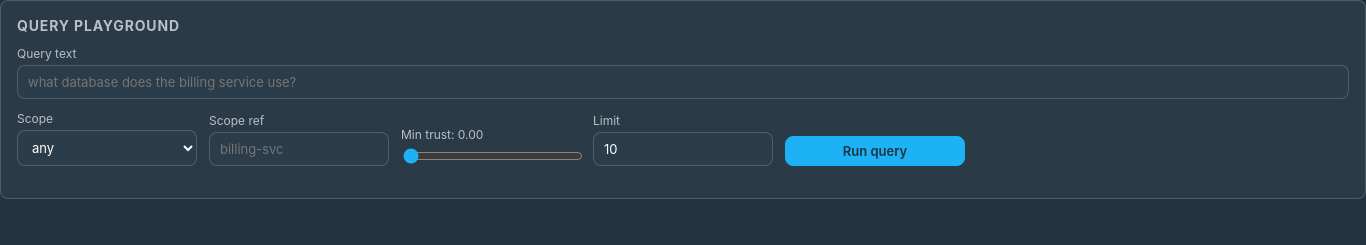
Test: QueryPlayground (Requirement 15.3) › surfaces an error when the query fails
Type "db" into the field with placeholder "what database does the billing service use?" at {"x": 683, "y": 82}, box [17,65,1349,99]
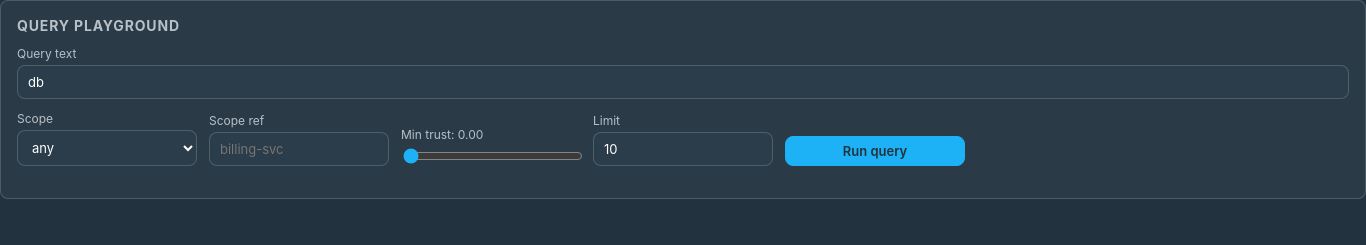
Click the button "Run query" at {"x": 875, "y": 151}, box [785,136,965,166]
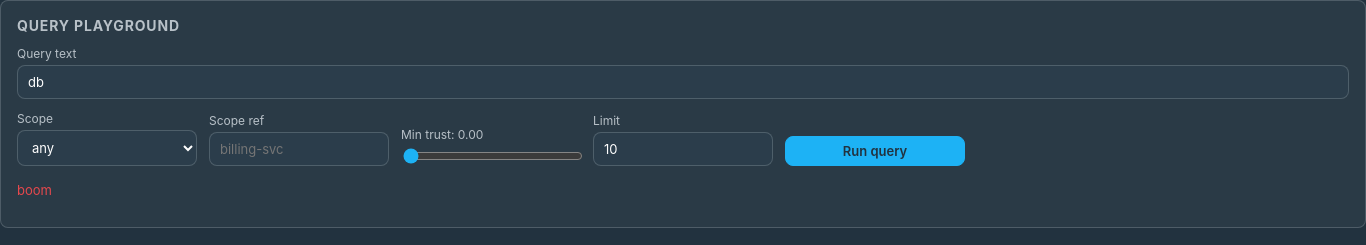
Expected: the message reads "boom", [17,182,52,198]
